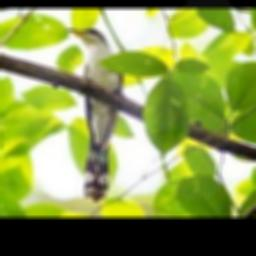Cuckoo: (64, 28, 122, 201)
